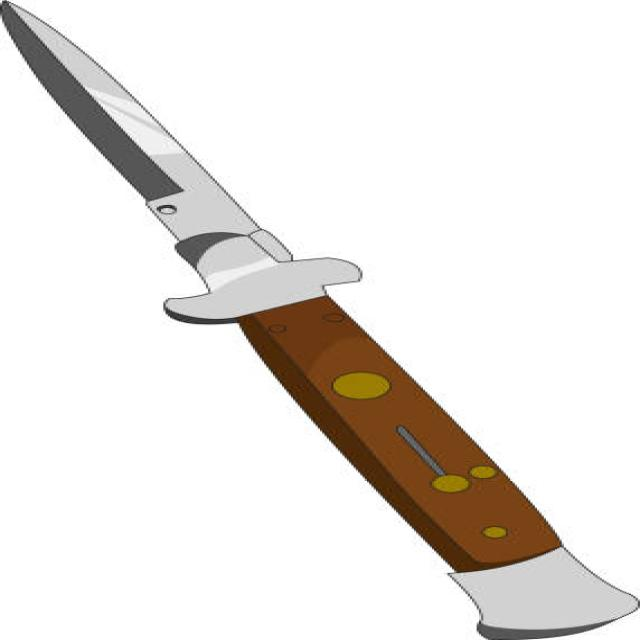knife: (1, 2, 640, 640)
